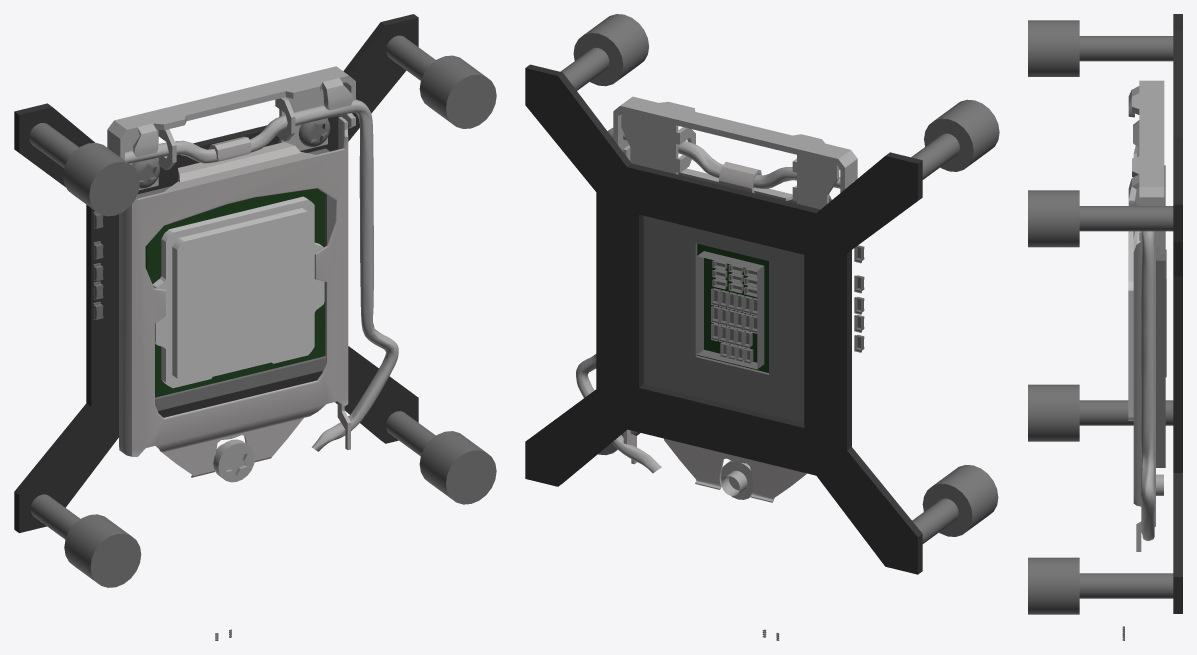
File: CPU.fbx
3 renders of one model, left to right at view 1: azimuth 30°, elevation 25°; view 2: azimuth 150°, elevation 25°; view 3: azimuth 270°, elevation 25°, orthographic. The views are drawn at different scales.
Visible parts, largest first — view 1: pCube329, pCube841, pCube1219, pCube478, nurbsToPoly1, pCylinder183, pCylinder184, pCylinder181, pCylinder182, pCube840, pCube479, pCylinder90 (+1 smaller); view 2: pCube1219, pCube479, pCube478, pCube329, pCylinder181, pCylinder182, pCylinder183, nurbsToPoly1, pCube840, pCylinder90; view 3: pCube1219, pCylinder184, pCylinder181, pCylinder182, pCylinder183, pCube478, nurbsToPoly1, pCube329, pCube479, pCube841.
Part boxes in pixels (x1=…): pCube329: x1=119, y1=117, x2=350, y2=477; pCube841: x1=152, y1=196, x2=324, y2=388; pCube1219: x1=14, y1=14, x2=418, y2=533; pCube478: x1=107, y1=66, x2=355, y2=190; nurbsToPoly1: x1=125, y1=99, x2=398, y2=451; pCylinder183: x1=30, y1=494, x2=141, y2=587; pCylinder184: x1=386, y1=411, x2=496, y2=504; pCylinder181: x1=386, y1=35, x2=496, y2=128; pCylinder182: x1=29, y1=123, x2=139, y2=216; pCube840: x1=145, y1=188, x2=324, y2=397; pCube479: x1=136, y1=148, x2=334, y2=410; pCylinder90: x1=213, y1=439, x2=254, y2=482; pCube1219: x1=525, y1=64, x2=922, y2=574; pCube479: x1=643, y1=216, x2=804, y2=423; pCube478: x1=613, y1=96, x2=857, y2=209; pCube329: x1=623, y1=145, x2=806, y2=502; pCylinder181: x1=560, y1=14, x2=648, y2=90; pCylinder182: x1=911, y1=99, x2=999, y2=179; pCylinder183: x1=912, y1=465, x2=998, y2=543; nurbsToPoly1: x1=576, y1=128, x2=854, y2=473; pCube840: x1=697, y1=243, x2=768, y2=372; pCylinder90: x1=721, y1=460, x2=753, y2=499; pCube1219: x1=1173, y1=14, x2=1182, y2=613; pCylinder184: x1=1028, y1=557, x2=1173, y2=614; pCylinder181: x1=1028, y1=190, x2=1173, y2=247; pCylinder182: x1=1028, y1=20, x2=1173, y2=76; pCylinder183: x1=1028, y1=384, x2=1173, y2=441; pCube478: x1=1128, y1=80, x2=1164, y2=253; nurbsToPoly1: x1=1141, y1=231, x2=1154, y2=540; pCube329: x1=1133, y1=146, x2=1155, y2=551; pCube479: x1=1156, y1=165, x2=1166, y2=467; pCube841: x1=1128, y1=231, x2=1140, y2=420.
Size of the model in its own units: 2.57 by 3.32 by 0.8632.
